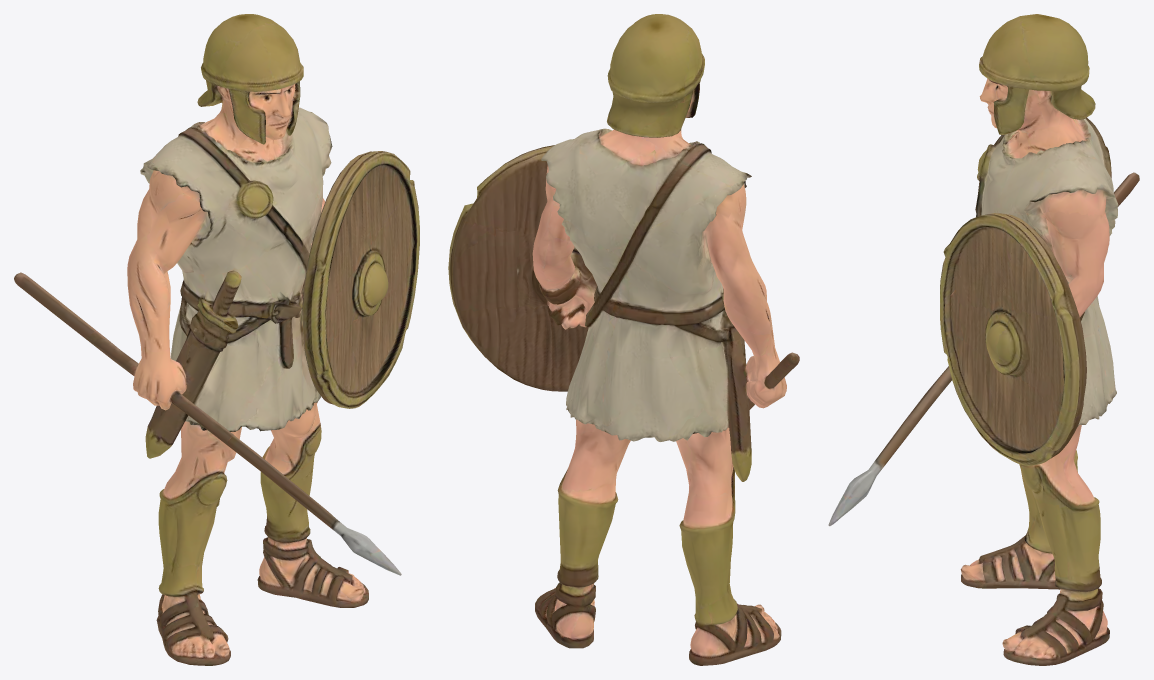
Rendered from warrior.glb.
3 renders of one model, left to right at view 1: azimuth 30°, elevation 25°; view 2: azimuth 150°, elevation 25°; view 3: azimuth 270°, elevation 25°, orthographic. The views are drawn at different scales.
Size of the model in its own units: 1.23 by 1.9 by 0.8923.
1 material, 1 textured.
